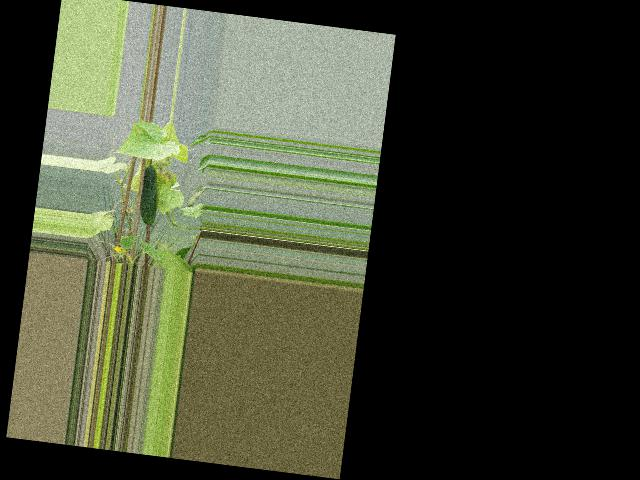cucumber: (137, 165, 162, 227)
